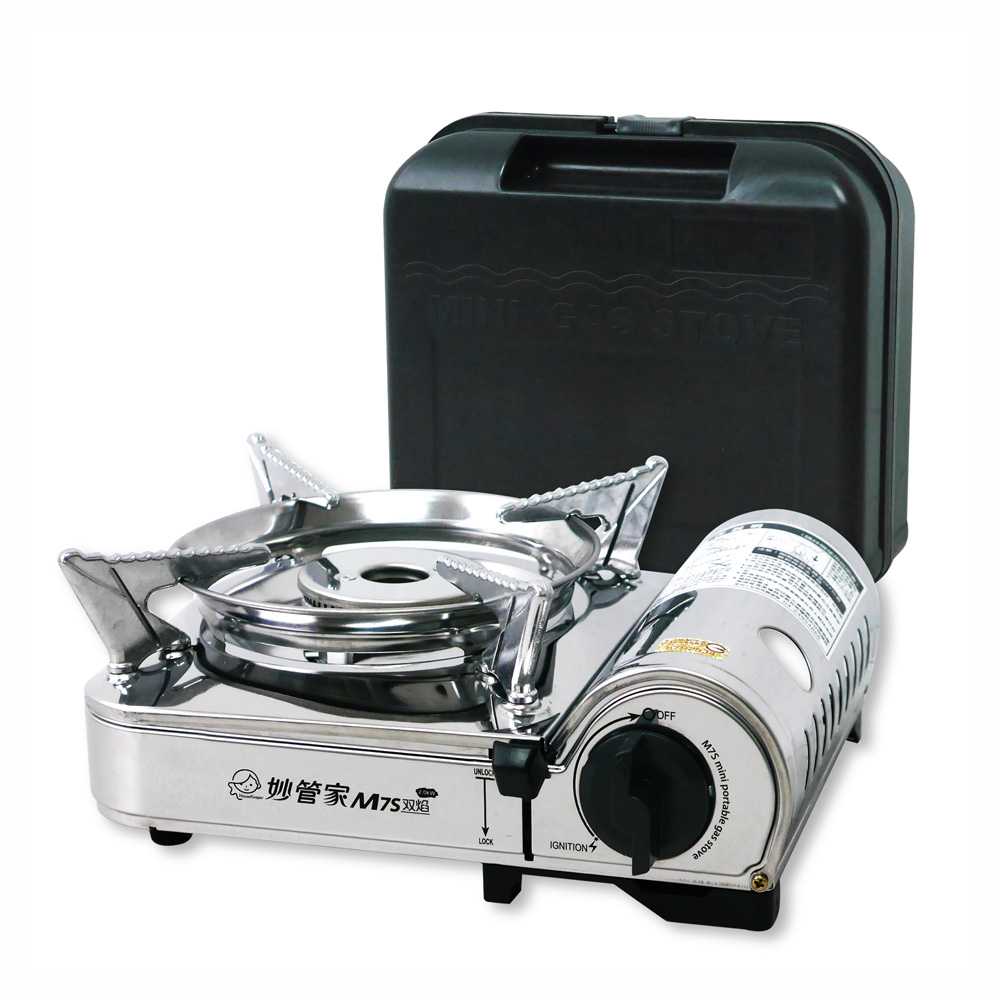gasoven: (55, 414, 902, 935)
